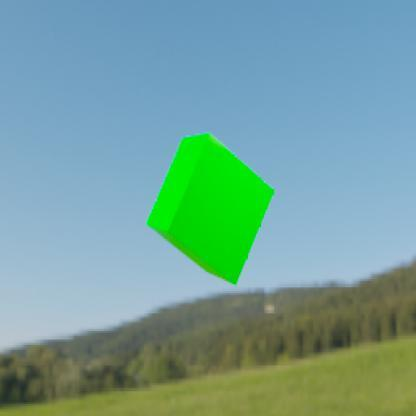cube: (146, 132, 274, 286)
